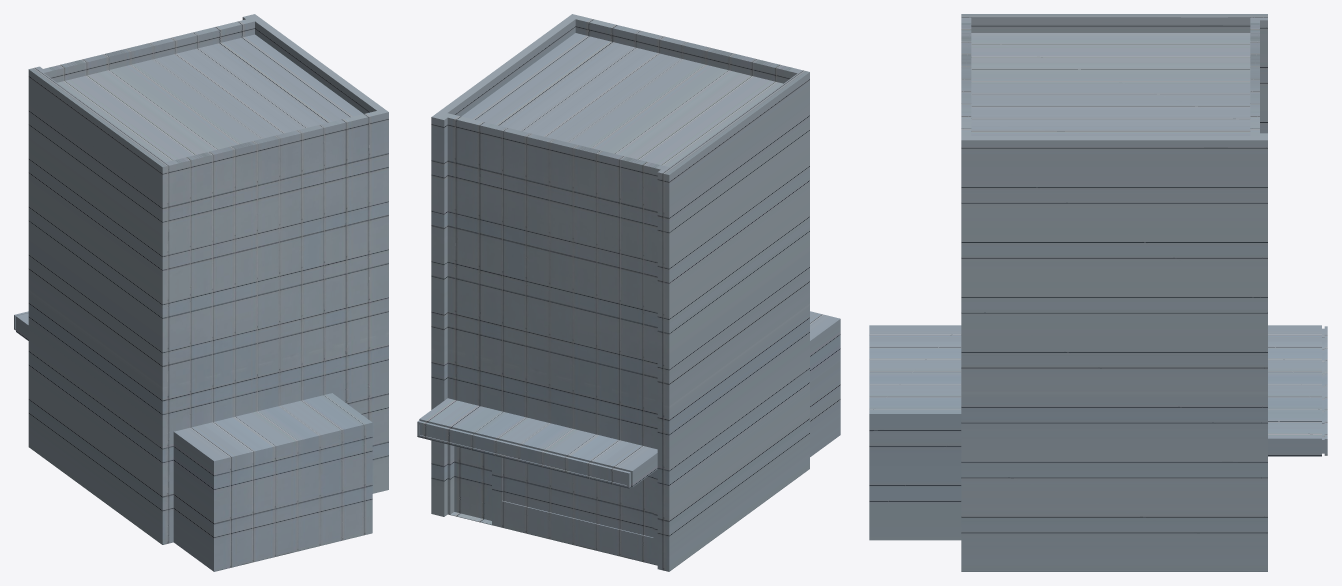
3 renders of one model, left to right at view 1: azimuth 30°, elevation 25°; view 2: azimuth 150°, elevation 25°; view 3: azimuth 270°, elevation 25°, orthographic. The views are drawn at different scales.
Parts seen in each view (by area): view 1: Building 29; view 2: Building 29; view 3: Building 29.
Boxes of the visible parts, left/top/right/bottom form: Building 29: left=14, top=14, right=388, bottom=571; Building 29: left=417, top=14, right=840, bottom=571; Building 29: left=869, top=14, right=1327, bottom=571.
Size of the model in its own units: 567 by 905 by 871.
1 material, 1 textured.
